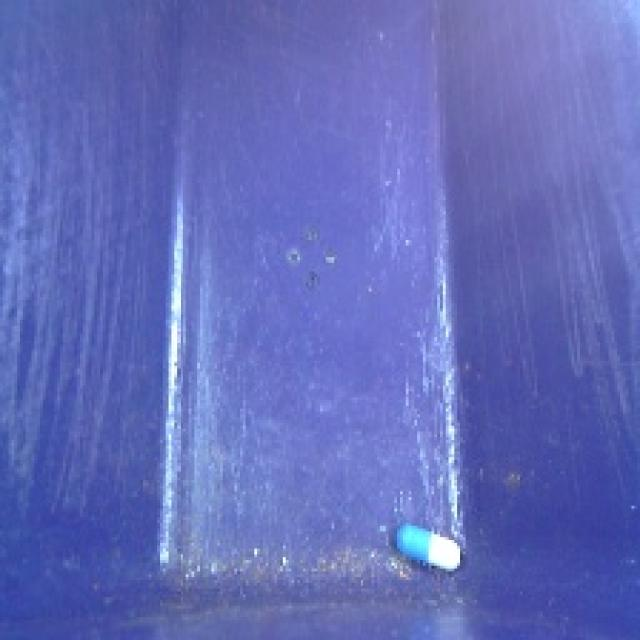small: (386, 511, 466, 582)
